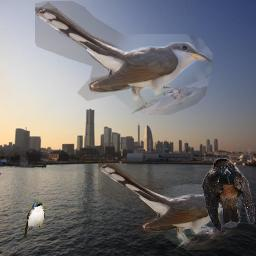Cuckoo: (35, 1, 213, 115), (98, 158, 242, 250)
Swallow: (202, 158, 255, 231), (24, 200, 46, 238)
